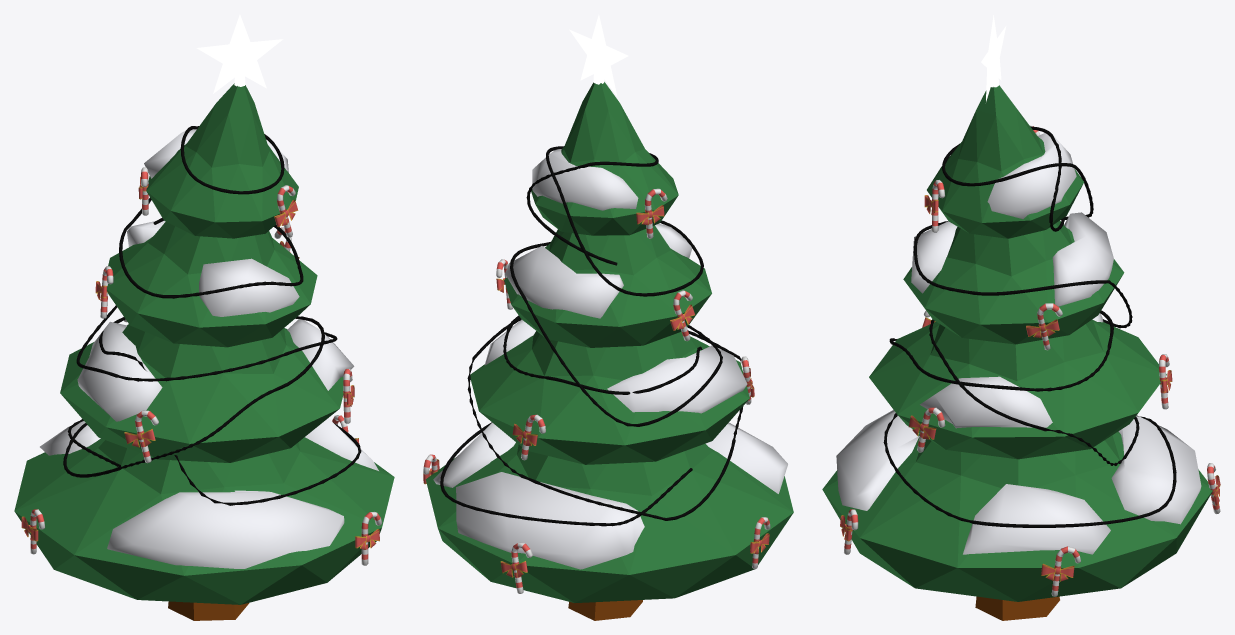
Rendered from ChristmasTree.glb.
3 renders of one model, left to right at view 1: azimuth 30°, elevation 25°; view 2: azimuth 150°, elevation 25°; view 3: azimuth 270°, elevation 25°, orthographic. The views are drawn at different scales.
Visible parts, largest first — view 1: pine, decor_tree, Cloud.008; view 2: pine, Cloud.008, decor_tree; view 3: pine, Cloud.008, decor_tree.
Boxes of the visible parts, left/top/right/bottom form: pine: left=14, top=83, right=394, bottom=620; decor_tree: left=21, top=14, right=382, bottom=565; Cloud.008: left=63, top=126, right=361, bottom=505; pine: left=425, top=82, right=793, bottom=620; Cloud.008: left=440, top=146, right=743, bottom=526; decor_tree: left=423, top=14, right=770, bottom=593; pine: left=822, top=85, right=1212, bottom=620; Cloud.008: left=883, top=126, right=1176, bottom=527; decor_tree: left=840, top=15, right=1220, bottom=596.
Size of the model in its own units: 1.11 by 1.88 by 1.13.
